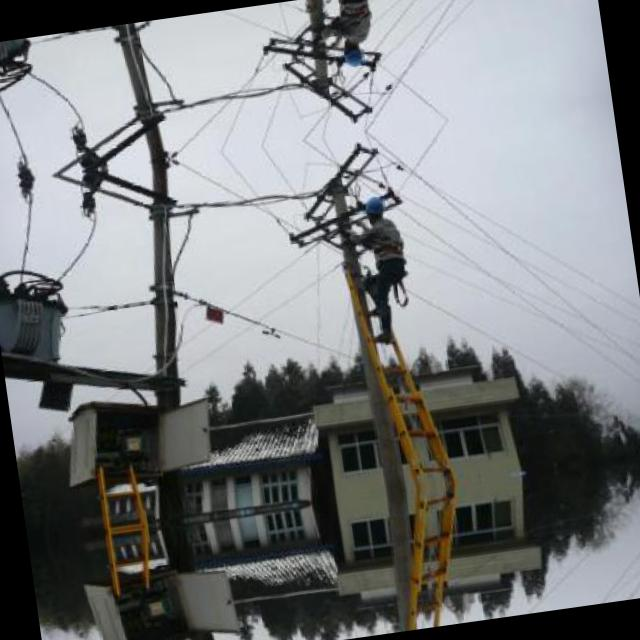helmet: (361, 188, 391, 224), (340, 36, 370, 72)
